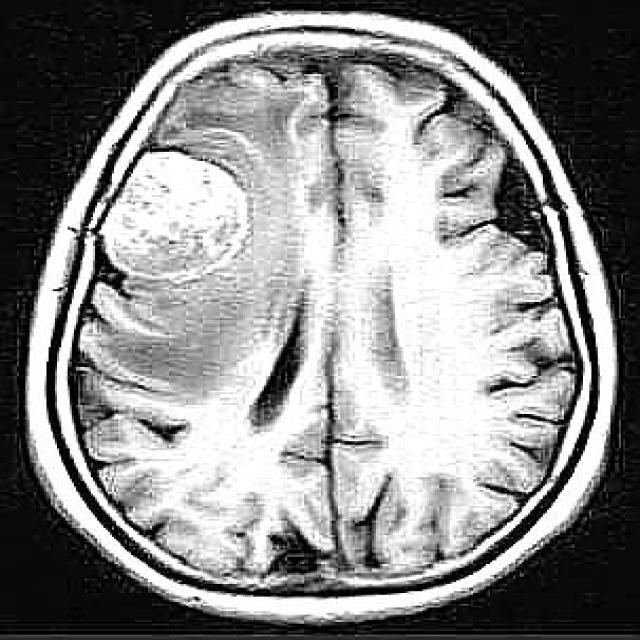Tumor-Cell: (88, 143, 275, 282)
